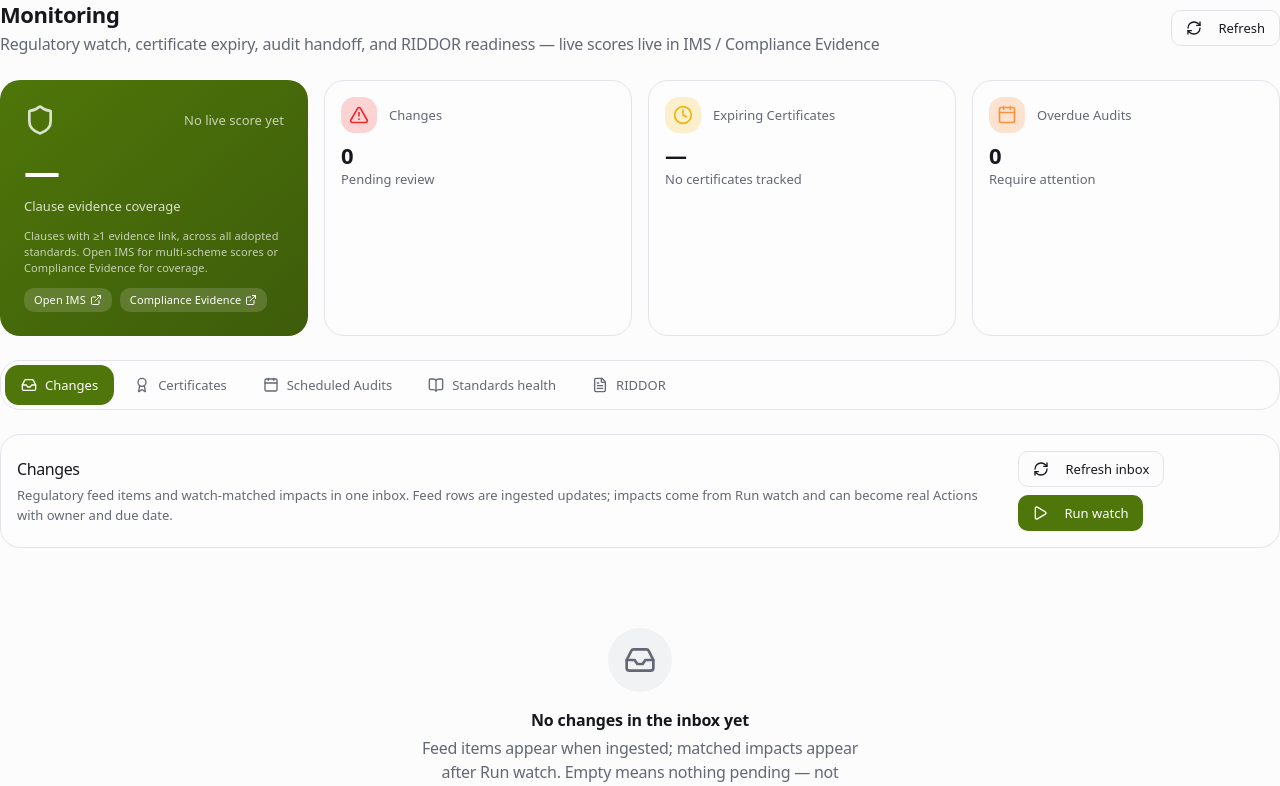
Test case: ComplianceAutomation monitoring honesty › shows honest scheduled audits empty state with Audits handoff when no runs
Expected: the heading "Monitoring" is shown, [0,0,119,29]
Step 1. Click the button "Scheduled Audits" → coordinates (327, 385), box [247,365,408,405]
(page scrolled)
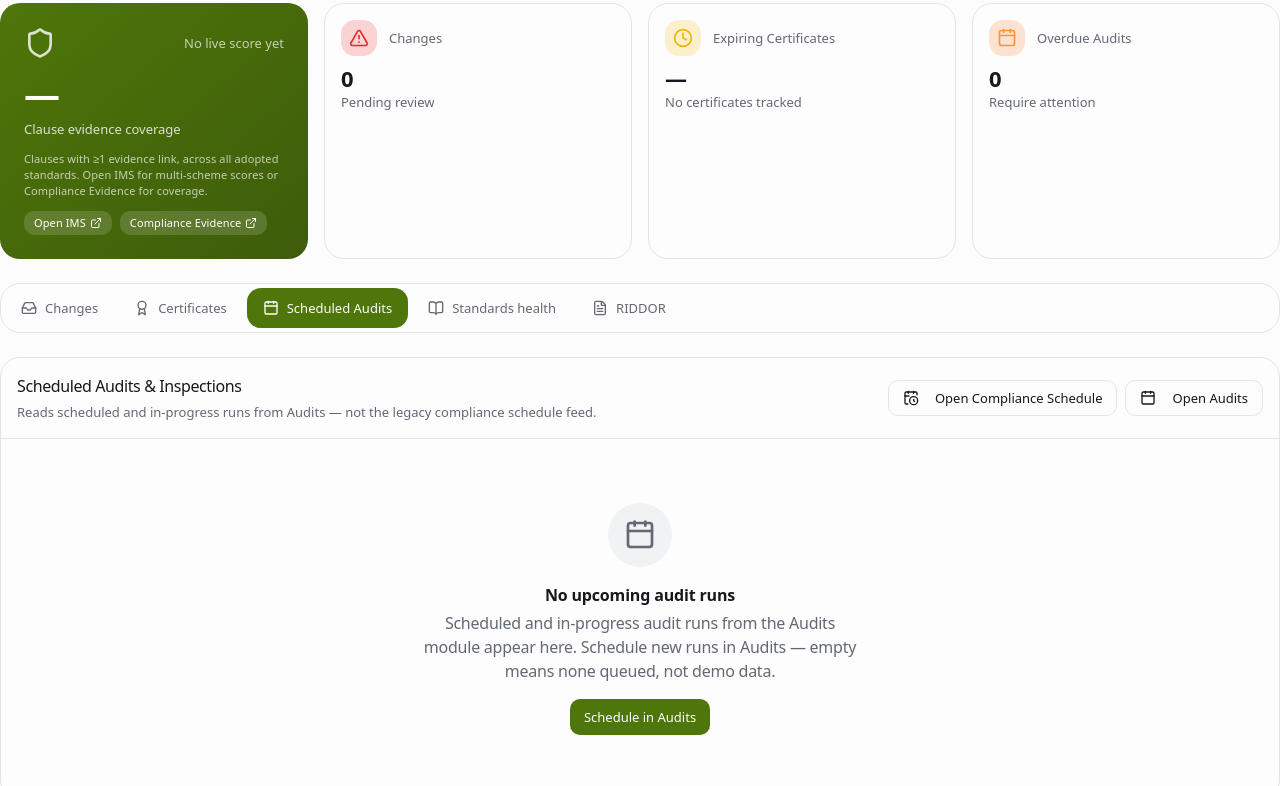
Result: the element with test id "monitoring-audits-empty" is shown at [424,503,856,735]
Result: the heading "No upcoming audit runs" is shown at [545,584,735,606]
Result: the text "Scheduled and in-progress audit runs from the Audits module" is shown at [424,612,856,682]
